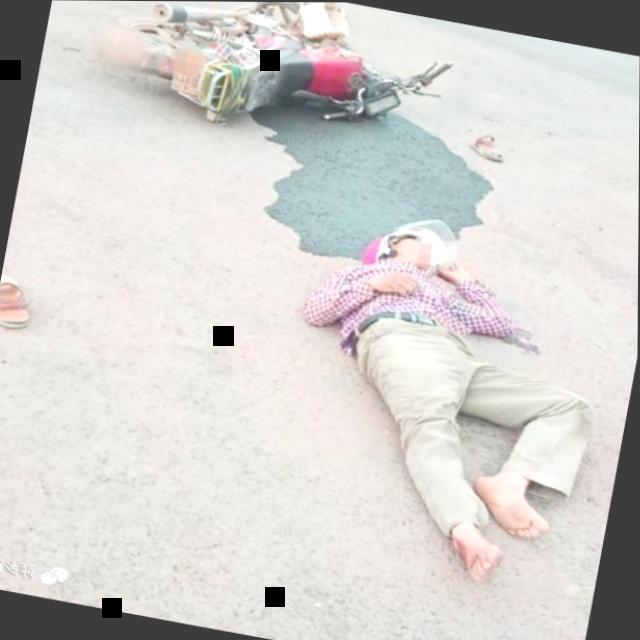Fall-Detected: (239, 178, 639, 615)
